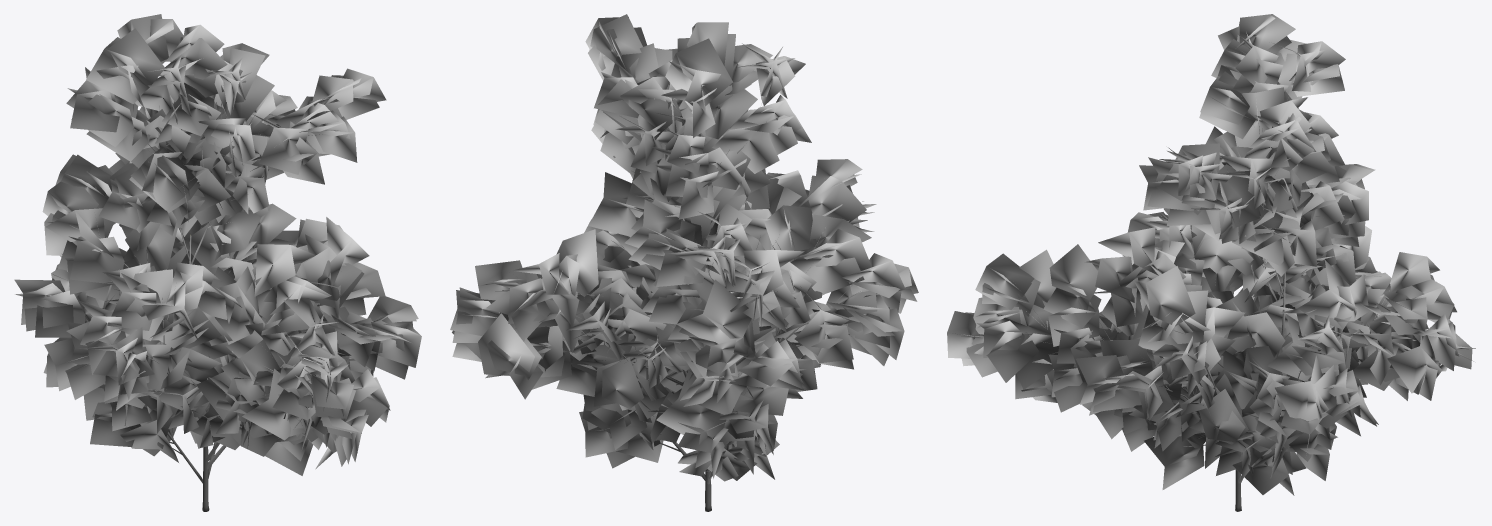
File: MapleGreenMountain_E.fbx
3 renders of one model, left to right at view 1: azimuth 30°, elevation 25°; view 2: azimuth 150°, elevation 25°; view 3: azimuth 270°, elevation 25°, orthographic. The views are drawn at different scales.
Visible parts, largest first — view 1: MapleGreenMountain_E_LOD0; view 2: MapleGreenMountain_E_LOD0; view 3: MapleGreenMountain_E_LOD0.
Boxes of the visible parts, bbox=[...] form: MapleGreenMountain_E_LOD0: bbox=[14, 14, 421, 511]; MapleGreenMountain_E_LOD0: bbox=[450, 14, 918, 511]; MapleGreenMountain_E_LOD0: bbox=[947, 14, 1475, 511].
Size of the model in its own units: 1553 by 2032 by 2090.
